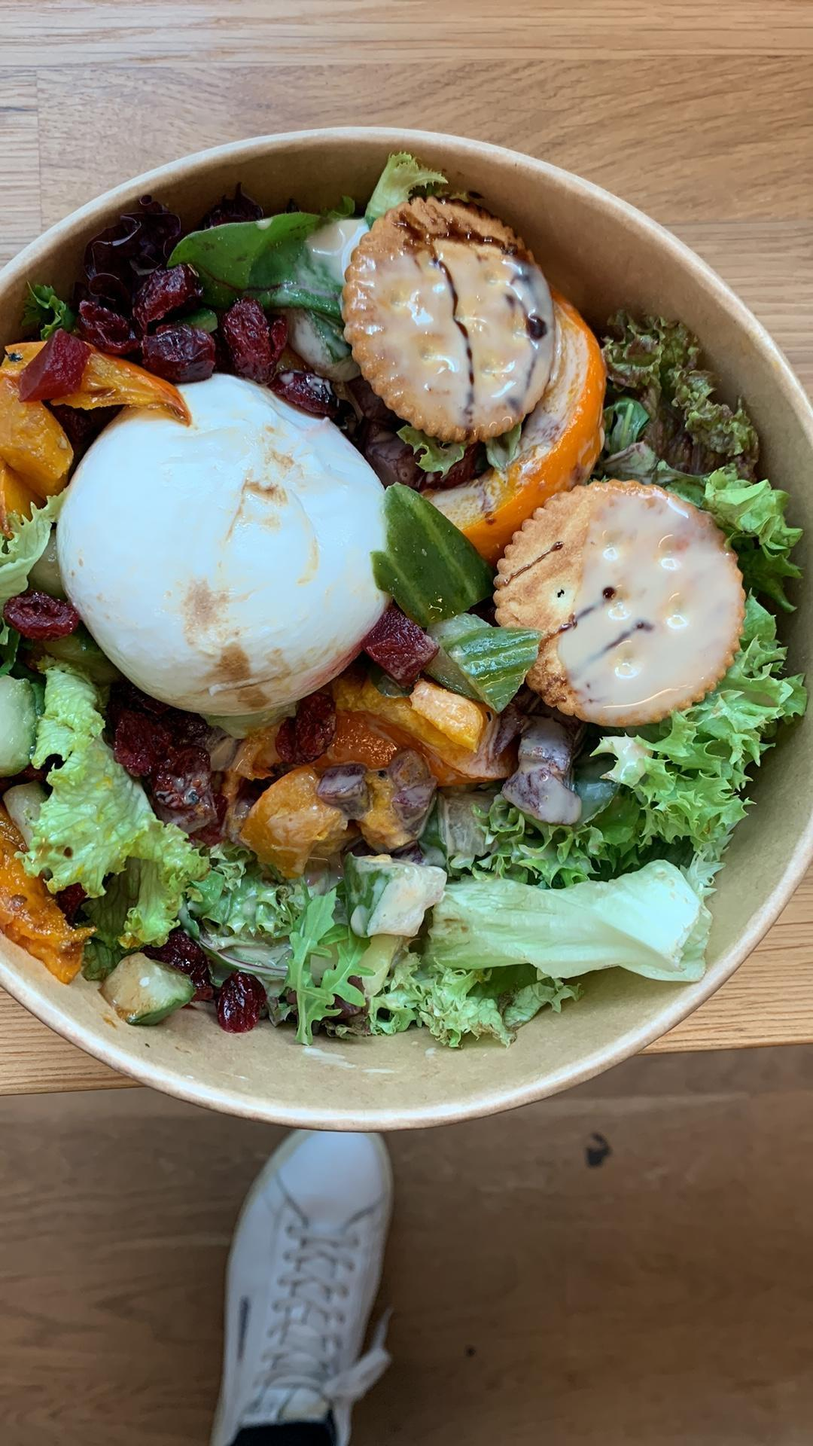cucumber: (379, 491, 489, 622), (444, 612, 541, 717), (112, 952, 197, 1023)
lettuce: (32, 662, 184, 938), (413, 862, 719, 973), (592, 726, 806, 863), (202, 854, 356, 1030), (712, 474, 805, 728), (367, 963, 573, 1052), (177, 207, 338, 312), (439, 783, 630, 864)
pumpkin: (442, 291, 608, 535), (0, 342, 187, 414), (0, 830, 85, 979), (0, 387, 56, 539)
